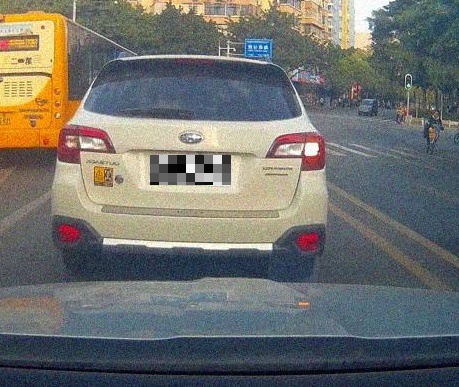L_light: (56, 125, 116, 165)
R_light: (265, 131, 326, 170)
T_light: (175, 57, 213, 64)
day-right: (51, 54, 328, 275)
plate_1: (150, 155, 231, 185)
